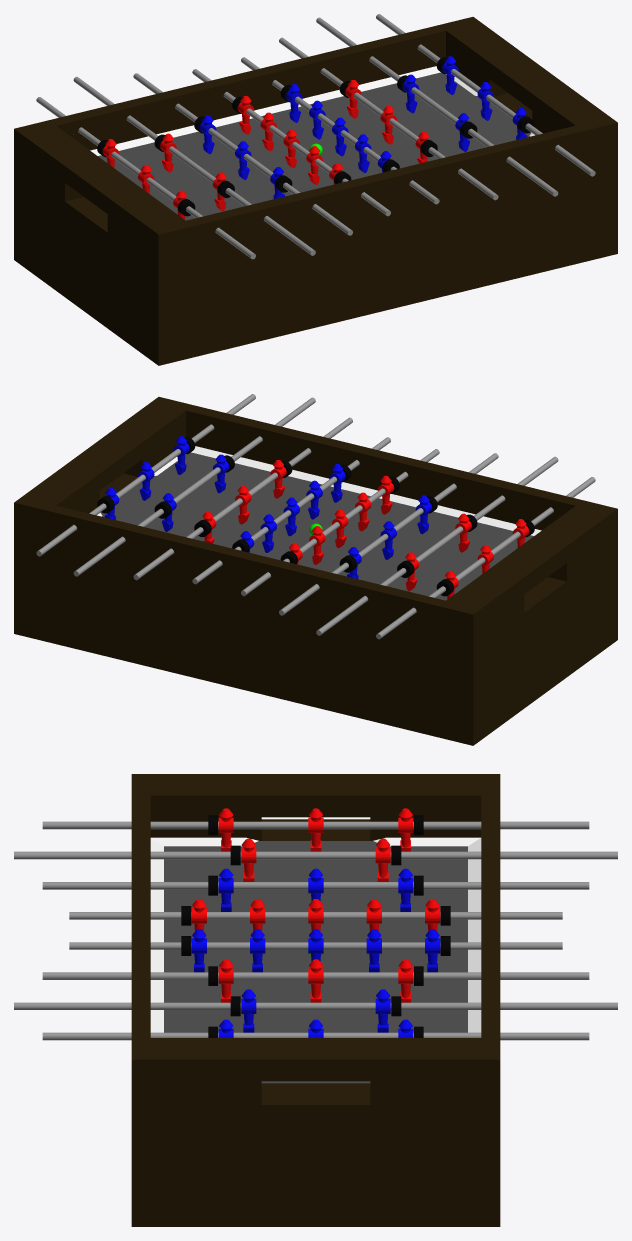
The picture shows the model from 3 angles, top to bottom: view 1: azimuth 30°, elevation 25°; view 2: azimuth 150°, elevation 25°; view 3: azimuth 270°, elevation 25°; orthographic projection. The views are drawn at different scales.
Visible parts, largest first — view 1: Wall.Side.NZ, Field, Red.Wall.Goal.Bottom, Wall.Side.PZ, Red.Wall.Goal.Top, Blue.Wall.Goal.Top, Ramps, D.Rod.004, D.Rod.003, A.Rod.004, G.Rod.003, G.Rod.004 (+6 smaller); view 2: Wall.Side.PZ, Field, Red.Wall.Goal.Bottom, Wall.Side.NZ, Red.Wall.Goal.Top, Blue.Wall.Goal.Top, Ramps, D.Rod.004, D.Rod.003, A.Rod.004, A.Rod.003, G.Rod.003 (+6 smaller); view 3: Blue.Wall.Goal.Bottom, Field, Blue.Wall.Goal.Top, Red.Wall.Goal.Top, Wall.Side.PZ, Wall.Side.NZ, Ramps, D.Rod.004, D.Rod.003, G.Rod.004, A.Rod.004, A.Rod.003 (+8 smaller).
Boxes of the visible parts, left/top/right/bottom form: Wall.Side.NZ: left=151, top=122, right=617, bottom=365; Field: left=98, top=72, right=531, bottom=220; Red.Wall.Goal.Bottom: left=14, top=170, right=158, bottom=365; Wall.Side.PZ: left=14, top=25, right=448, bottom=240; Red.Wall.Goal.Top: left=14, top=120, right=192, bottom=249; Blue.Wall.Goal.Top: left=439, top=17, right=617, bottom=130; Ramps: left=90, top=66, right=534, bottom=155; D.Rod.004: left=73, top=76, right=315, bottom=255; D.Rod.003: left=316, top=17, right=558, bottom=196; A.Rod.004: left=279, top=37, right=498, bottom=200; G.Rod.003: left=376, top=14, right=595, bottom=176; G.Rod.004: left=36, top=97, right=255, bottom=259; Wall.Side.PZ: left=14, top=502, right=480, bottom=745; Field: left=100, top=452, right=533, bottom=600; Red.Wall.Goal.Bottom: left=480, top=550, right=617, bottom=739; Wall.Side.NZ: left=186, top=404, right=617, bottom=615; Red.Wall.Goal.Top: left=439, top=500, right=617, bottom=625; Blue.Wall.Goal.Top: left=14, top=397, right=192, bottom=510; Ramps: left=97, top=446, right=541, bottom=535; D.Rod.004: left=316, top=456, right=558, bottom=635; D.Rod.003: left=73, top=397, right=315, bottom=576; A.Rod.004: left=133, top=417, right=352, bottom=580; A.Rod.003: left=279, top=453, right=498, bottom=615; G.Rod.003: left=36, top=394, right=255, bottom=556; Blue.Wall.Goal.Bottom: left=150, top=1083, right=481, bottom=1226; Field: left=164, top=841, right=467, bottom=1083; Blue.Wall.Goal.Top: left=131, top=1038, right=500, bottom=1081; Red.Wall.Goal.Top: left=131, top=774, right=500, bottom=817; Wall.Side.PZ: left=481, top=795, right=500, bottom=1226; Wall.Side.NZ: left=131, top=795, right=150, bottom=1226; Ramps: left=150, top=837, right=481, bottom=1032; D.Rod.004: left=14, top=851, right=617, bottom=859; D.Rod.003: left=14, top=1002, right=617, bottom=1009; G.Rod.004: left=42, top=821, right=589, bottom=829; A.Rod.004: left=42, top=972, right=589, bottom=979; A.Rod.003: left=42, top=882, right=589, bottom=889.
Size of the model in its own units: 69.89 by 19.28 by 62.47.
